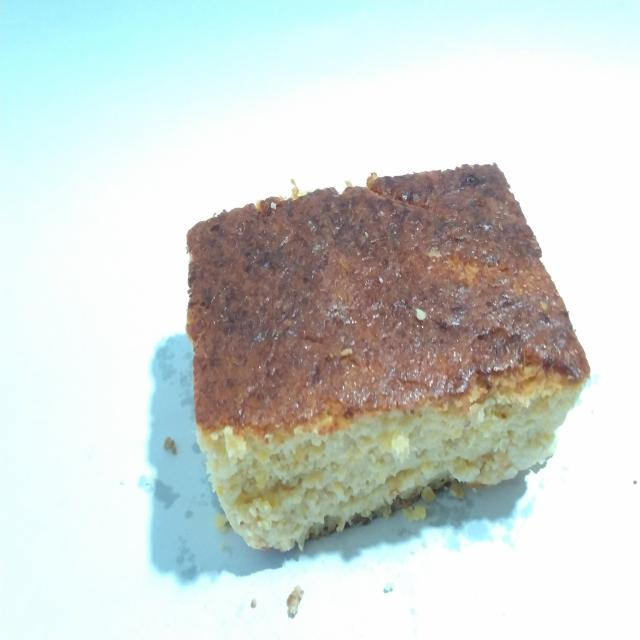Chipa_Guazu: (163, 145, 595, 576)
